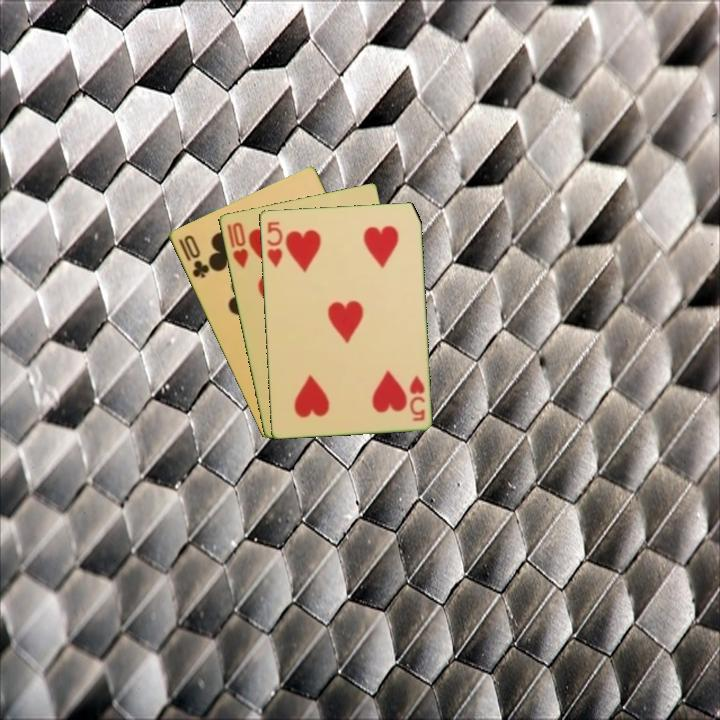10c: (175, 231, 212, 281)
10h: (223, 218, 251, 271)
5h: (263, 217, 285, 270), (406, 372, 427, 424)
